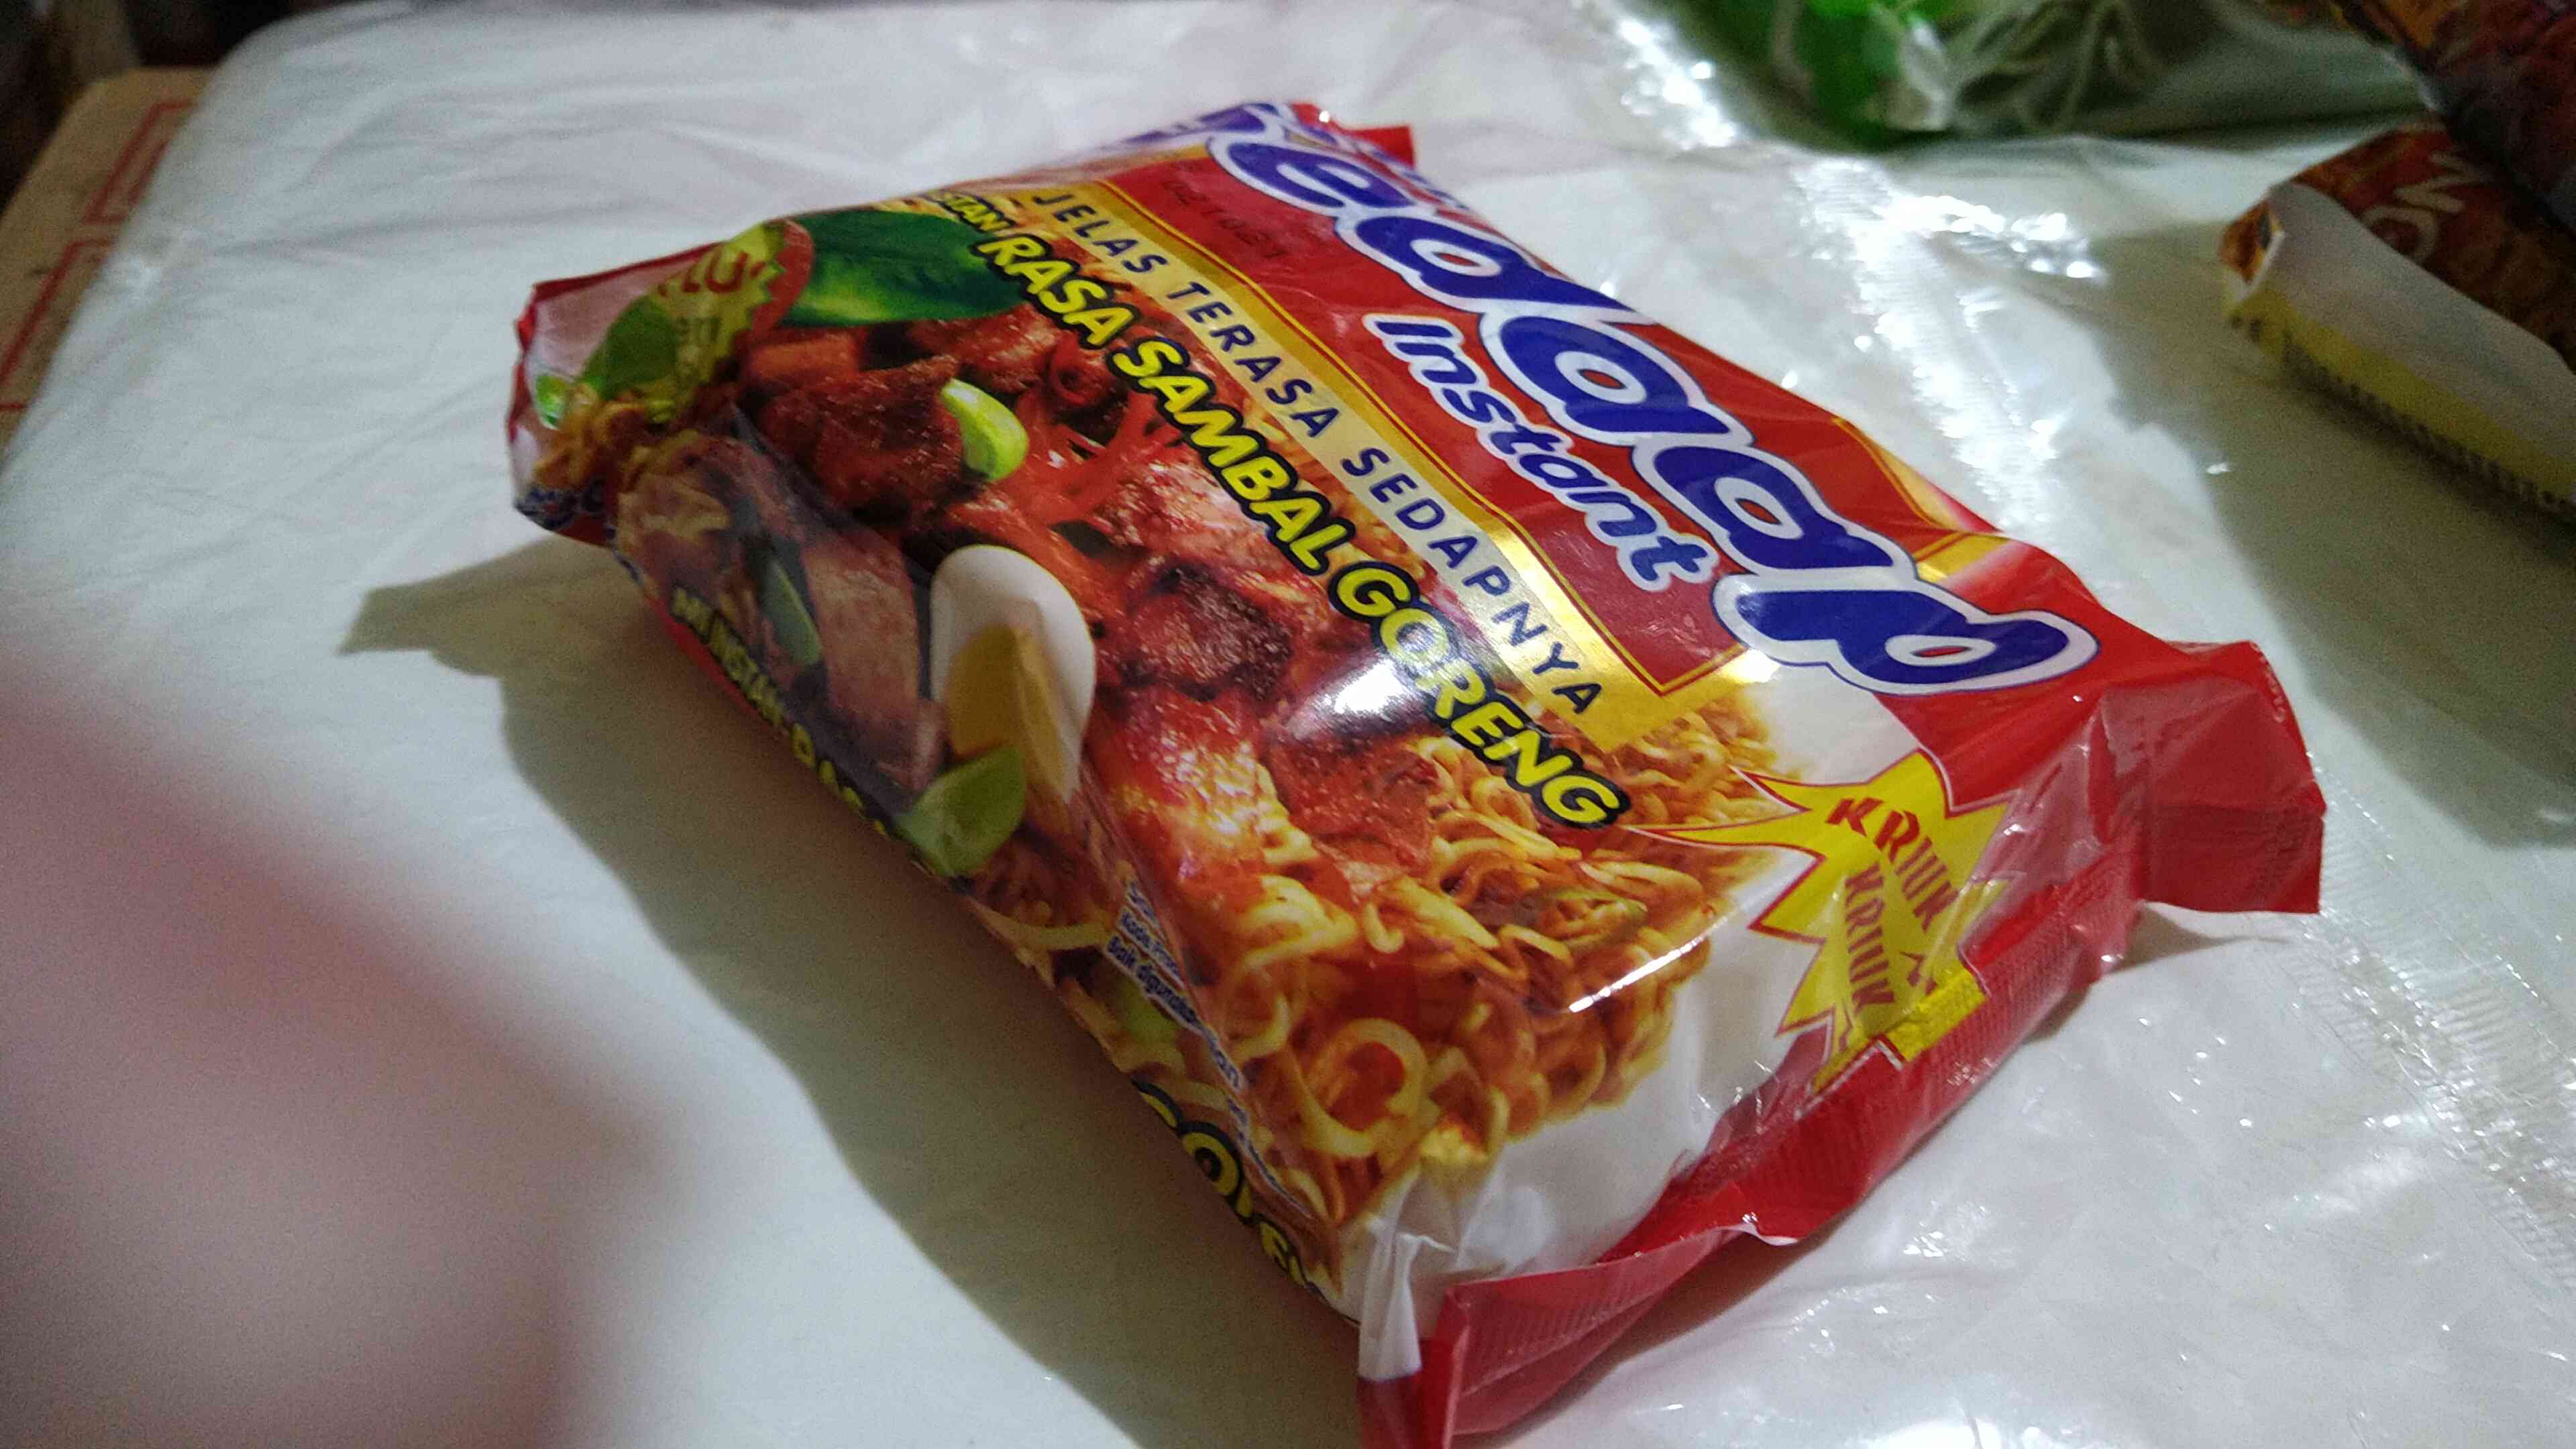sedaap sambal goreng: (497, 83, 2282, 1437)
